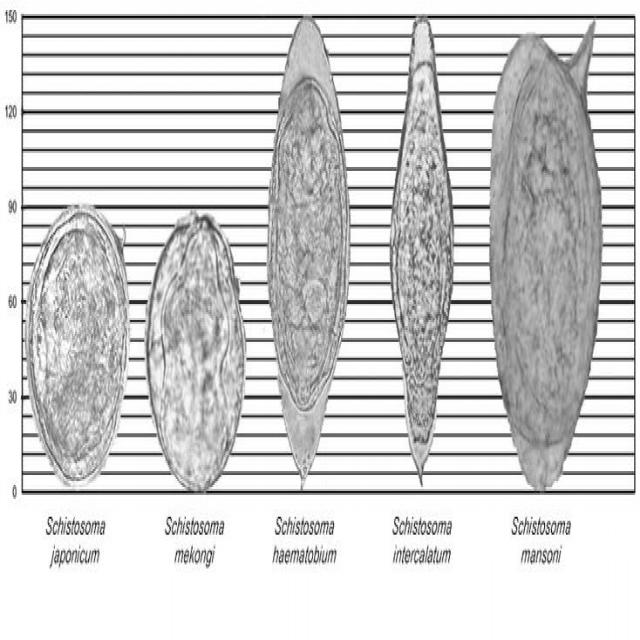Schistosoma: (485, 10, 607, 499), (264, 16, 352, 483), (381, 9, 466, 484), (24, 195, 128, 497), (140, 208, 250, 492)
